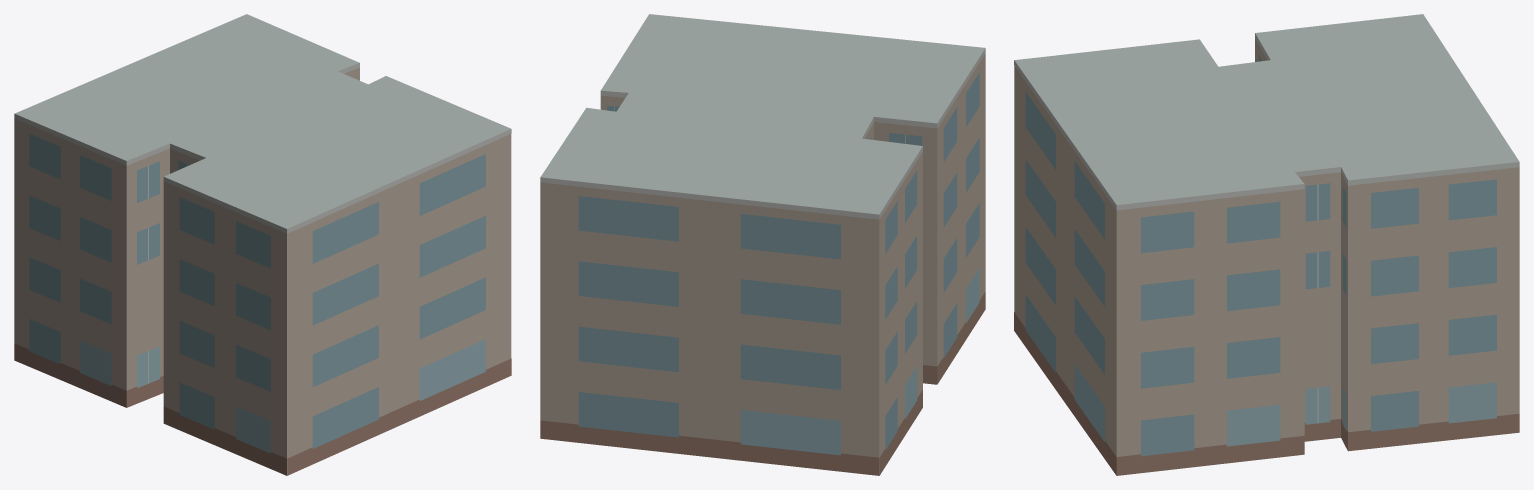
The model's file is survey-upis-32613229.glb.
3 views of the same model, side by side, from view 1: azimuth 30°, elevation 25°; view 2: azimuth 150°, elevation 25°; view 3: azimuth 270°, elevation 25° (orthographic). The views are drawn at different scales.
Parts seen in each view (by area): view 1: survey-upis-32613229.tmp; view 2: survey-upis-32613229.tmp; view 3: survey-upis-32613229.tmp.
Part boxes in pixels (left/top/right/bottom): survey-upis-32613229.tmp: left=14, top=14, right=511, bottom=475; survey-upis-32613229.tmp: left=540, top=14, right=985, bottom=475; survey-upis-32613229.tmp: left=1014, top=14, right=1519, bottom=475.
Bounding box in the file's own units: 19.1 × 12.6 × 21.33.
